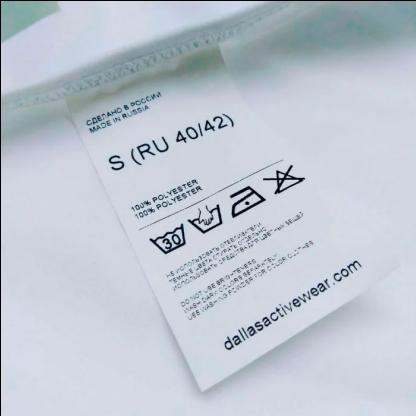ER_hand_wash: (189, 203, 224, 234)
ER_iron_low_temp: (227, 184, 268, 218)
ER_no_bleach: (266, 163, 306, 198)
ER_wash_30: (148, 222, 187, 255)
